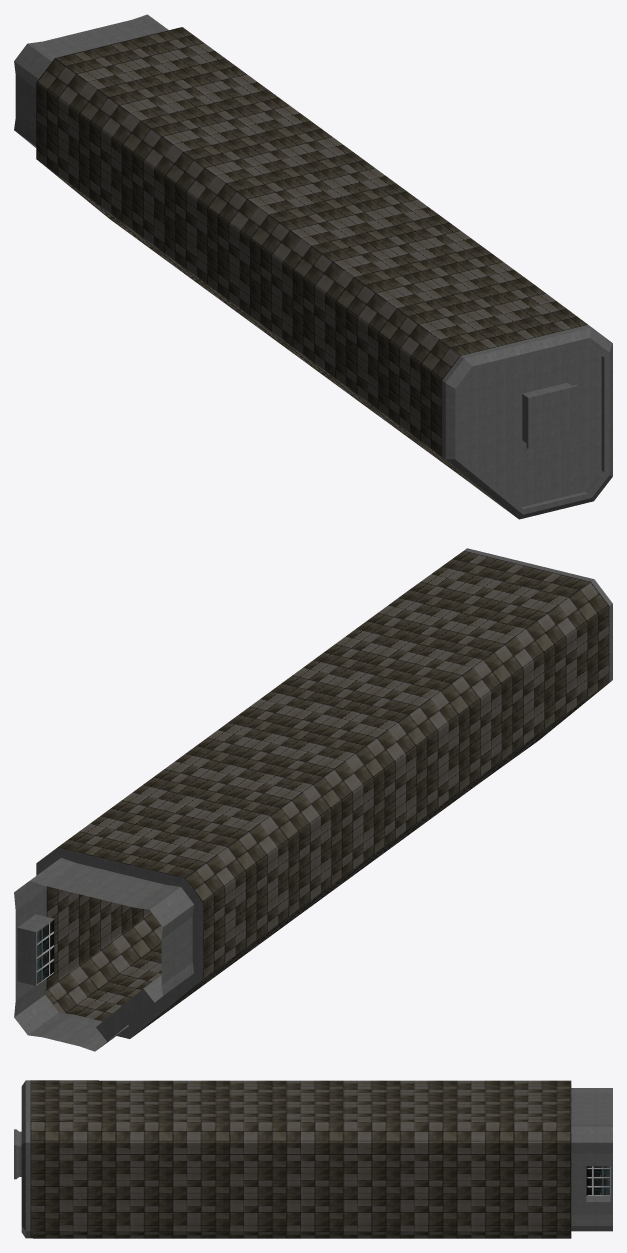
Rendered from skyscraper_windowH_05.obj.
3 views of the same model, one above another, from view 1: azimuth 30°, elevation 25°; view 2: azimuth 150°, elevation 25°; view 3: azimuth 270°, elevation 25° (orthographic). The views are drawn at different scales.
Visible parts, largest first — view 1: Object66; view 2: Object66; view 3: Object66.
Boxes of the visible parts, x1=… form: Object66: x1=14, y1=14, x2=612, y2=519; Object66: x1=14, y1=548, x2=612, y2=1051; Object66: x1=14, y1=1080, x2=612, y2=1238.
Size of the model in its own units: 36.33 by 36.05 by 169.
3 materials, 3 textured.
